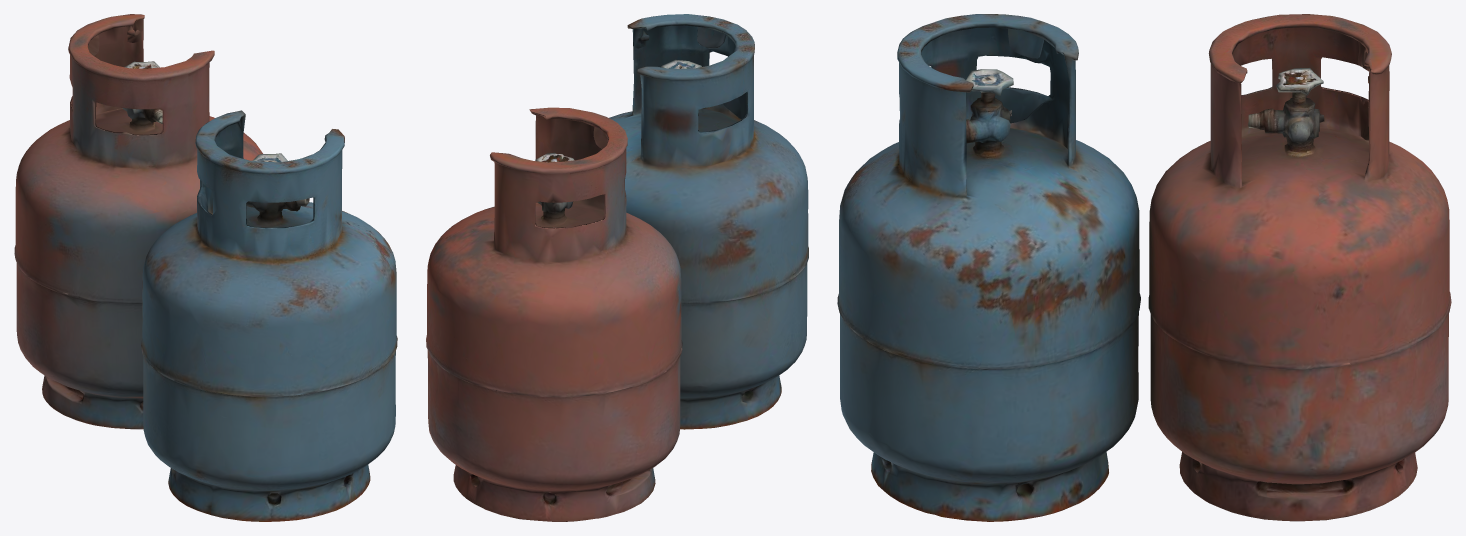
Rendered from lpg.glb.
The picture shows the model from 3 angles, left to right: view 1: azimuth 30°, elevation 25°; view 2: azimuth 150°, elevation 25°; view 3: azimuth 270°, elevation 25°; orthographic projection. The views are drawn at different scales.
Visible parts, largest first — view 1: tripo_node_014b9203-88a5-4673-b54a-d00724b1b6e9; view 2: tripo_node_014b9203-88a5-4673-b54a-d00724b1b6e9; view 3: tripo_node_014b9203-88a5-4673-b54a-d00724b1b6e9.
Part boxes in pixels (bbox=[...]): tripo_node_014b9203-88a5-4673-b54a-d00724b1b6e9: bbox=[14, 14, 397, 521]; tripo_node_014b9203-88a5-4673-b54a-d00724b1b6e9: bbox=[426, 14, 808, 521]; tripo_node_014b9203-88a5-4673-b54a-d00724b1b6e9: bbox=[837, 14, 1451, 521].
Size of the model in its own units: 0.4267 by 0.6201 by 0.8231.
Materials: 1 (1 with a texture image).
